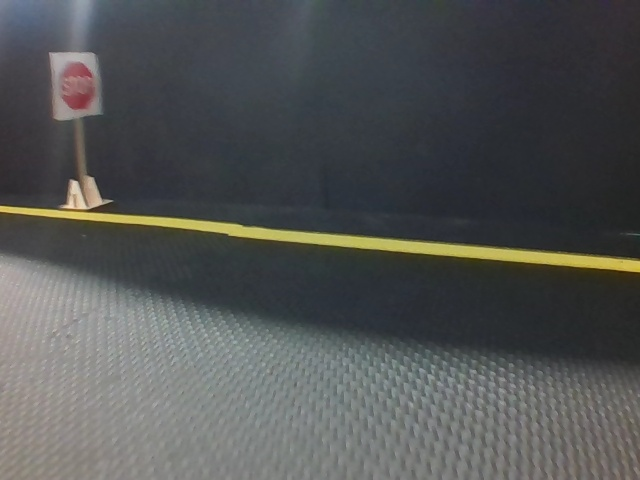stop: (51, 50, 101, 118)
